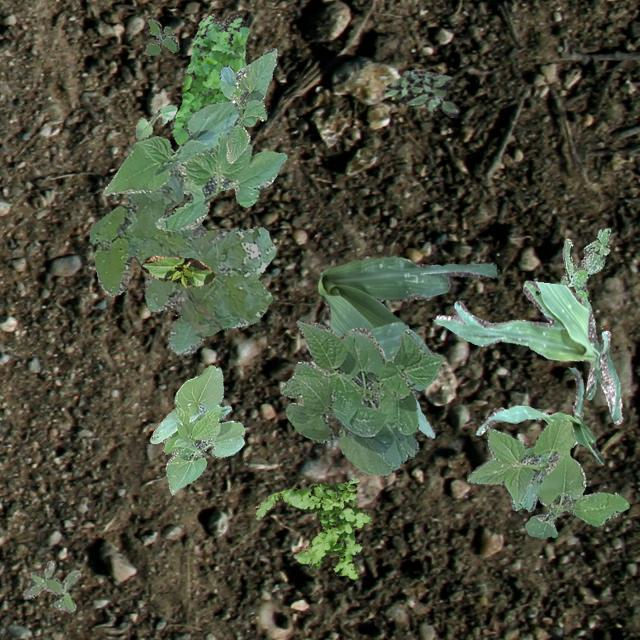crop: (316, 256, 496, 438), (432, 280, 622, 424), (278, 318, 442, 474), (102, 98, 286, 230), (148, 364, 244, 494), (476, 367, 602, 462), (218, 46, 276, 162), (140, 254, 216, 286), (134, 104, 177, 138)
weed: (88, 168, 274, 354), (466, 418, 628, 538), (252, 476, 370, 578), (172, 12, 248, 144), (558, 228, 610, 310), (383, 68, 459, 116), (22, 558, 80, 610), (144, 18, 178, 54)
